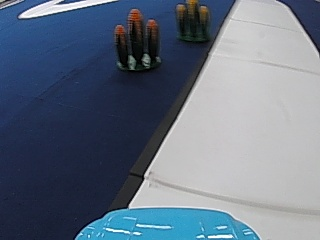corn: (113, 9, 162, 72), (174, 0, 212, 42)
